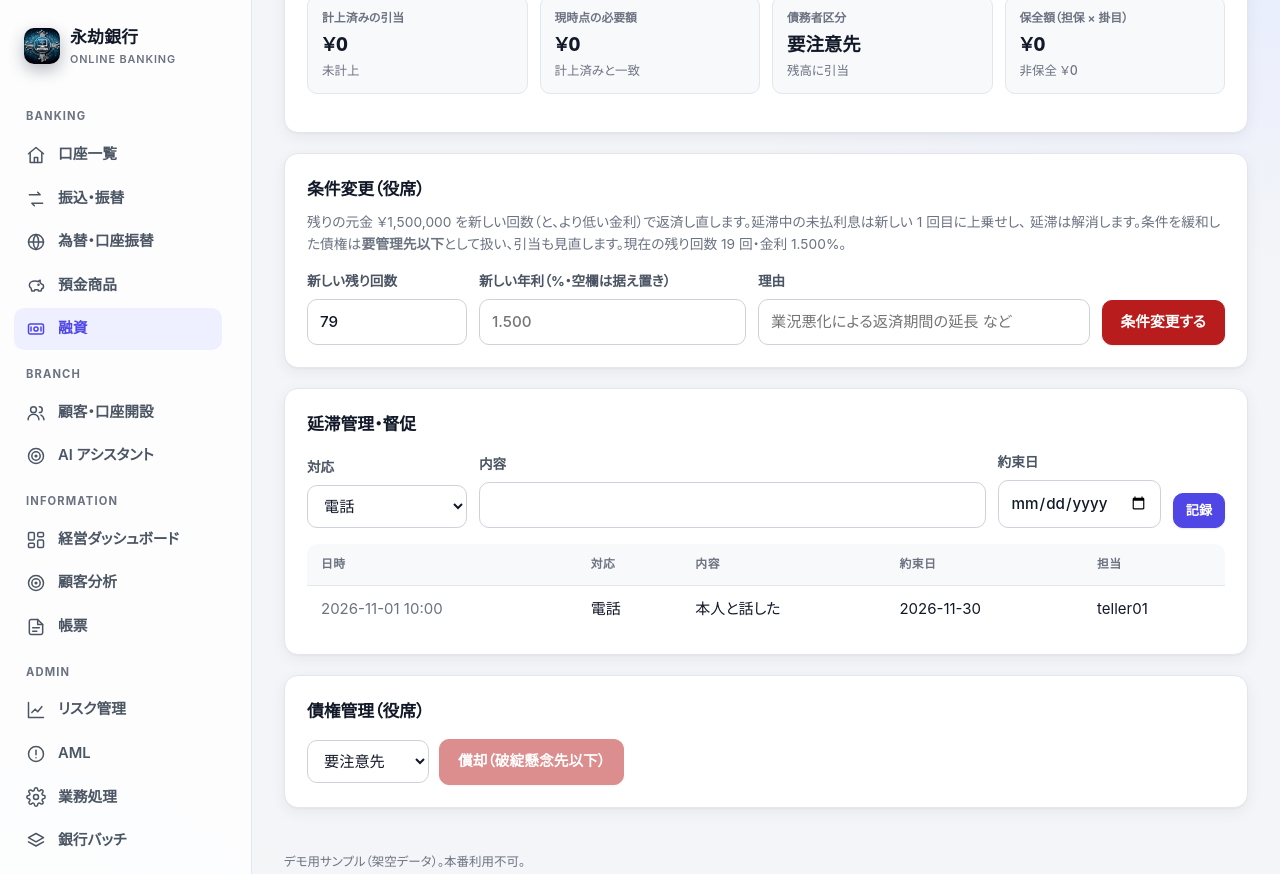
Test: LoanPage › 役席：債務者区分の変更。償却は破綻懸念先以下でのみ押せる
(page scrolled)
Expected: the button "償却（破綻懸念先以下）" is disabled, [439,739,624,784]
Select "破綻懸念先" in the 2nd dropdown: (368, 762) [307,740,429,783]
(page scrolled)
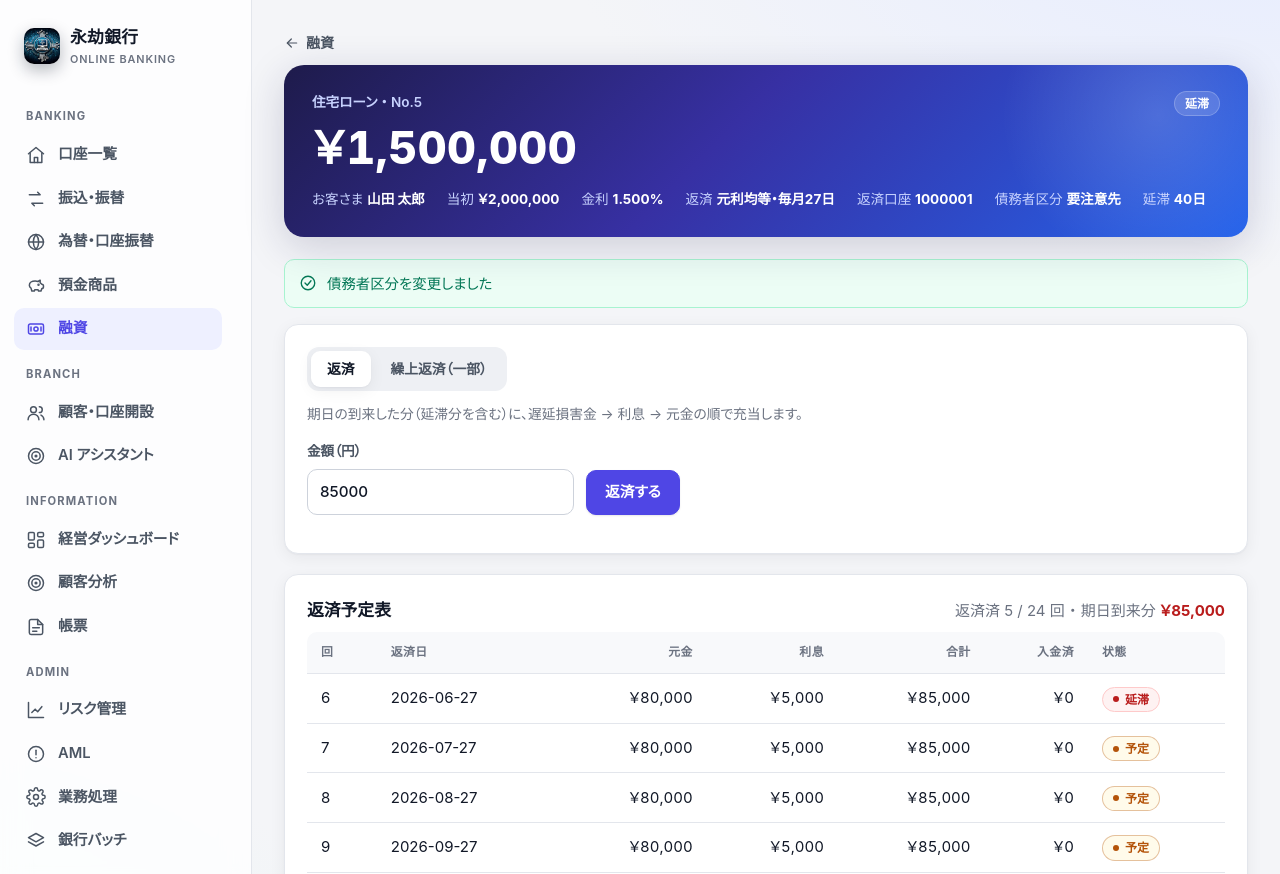
Expected: the text "債務者区分を変更しました" is shown, [327,272,492,295]
